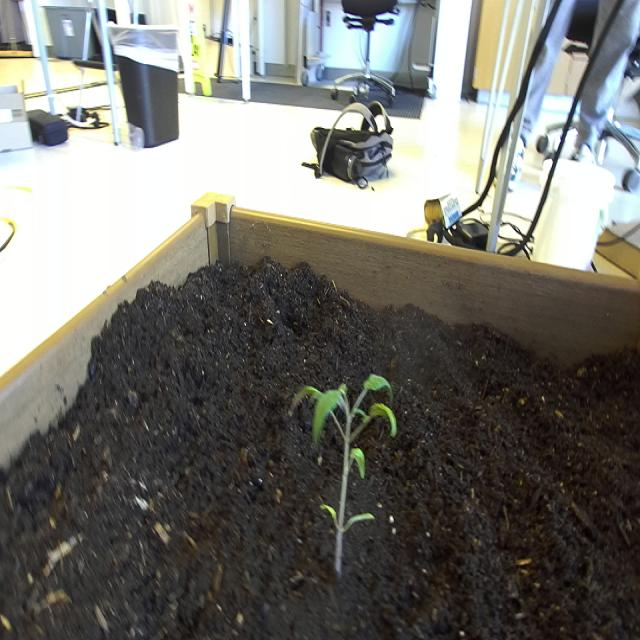Healthy: (288, 370, 399, 582)
